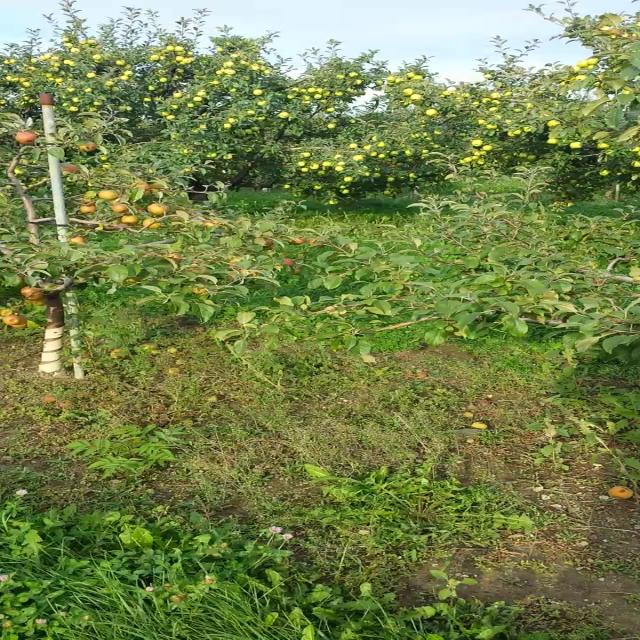apple: (20, 287, 44, 299), (16, 131, 36, 145), (8, 315, 29, 328), (147, 203, 169, 213), (141, 218, 162, 228), (29, 296, 48, 306), (308, 240, 328, 248), (99, 190, 118, 198), (134, 182, 148, 192), (168, 253, 182, 263), (122, 216, 138, 224), (81, 143, 96, 151), (0, 308, 15, 316), (81, 206, 95, 214), (112, 205, 128, 212), (70, 235, 86, 242), (3, 316, 17, 324), (63, 165, 77, 173), (292, 238, 308, 245), (193, 288, 211, 294), (228, 257, 242, 263), (285, 258, 295, 266), (204, 222, 216, 228)
